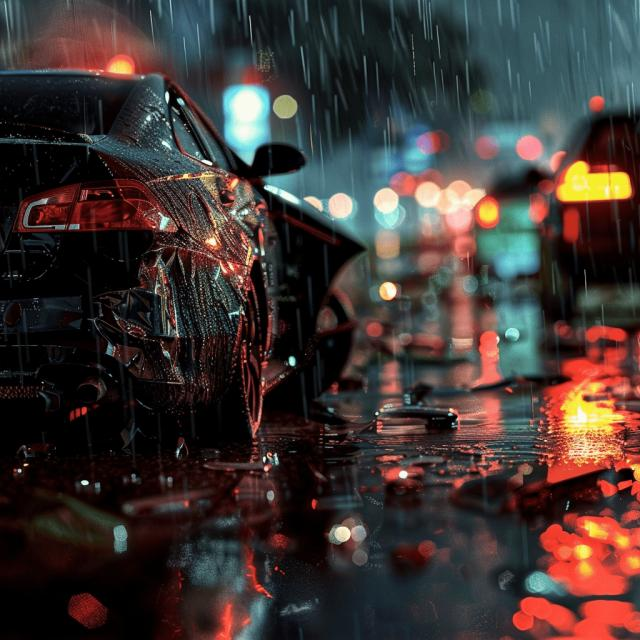Accident: (2, 65, 398, 562)
